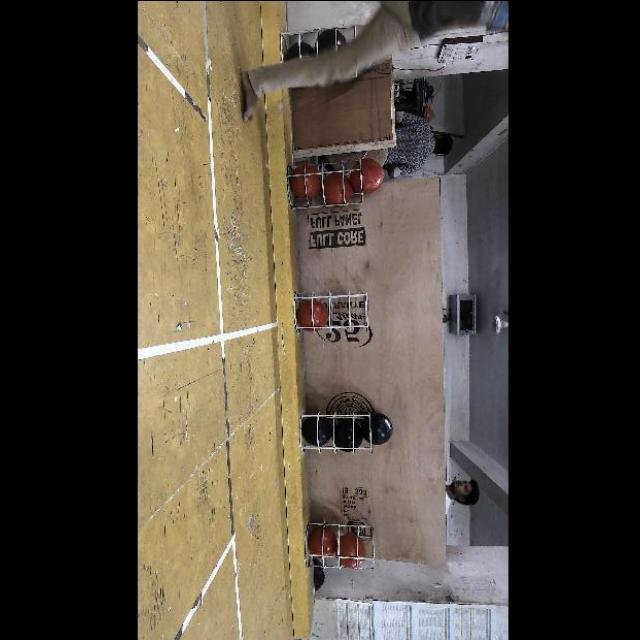P: (361, 411, 392, 445), (303, 412, 329, 446), (334, 418, 360, 452)
R: (350, 157, 383, 193), (339, 530, 365, 568), (306, 526, 336, 558), (296, 299, 326, 331), (292, 165, 321, 197), (322, 174, 350, 203)
S: (282, 152, 366, 212), (299, 514, 377, 576), (296, 408, 382, 456), (289, 290, 377, 334), (276, 25, 362, 69)
